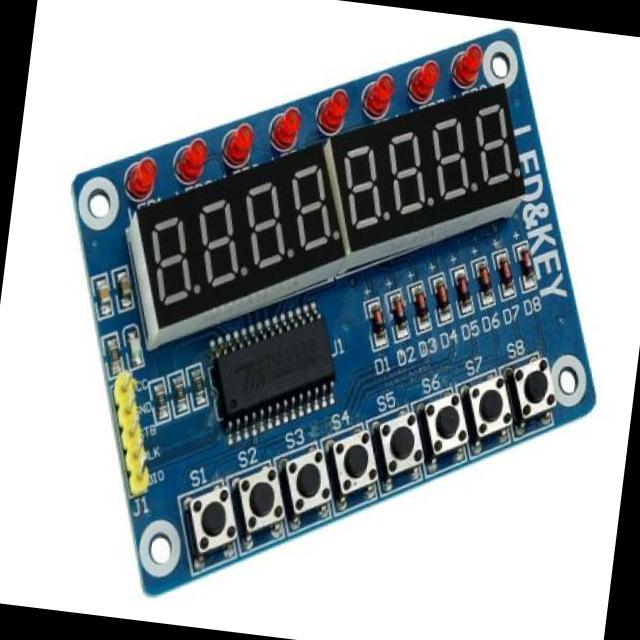IC: (207, 298, 344, 435)
LED: (171, 133, 211, 185), (450, 36, 486, 92), (362, 70, 398, 120), (222, 119, 258, 166), (120, 154, 160, 196), (268, 102, 303, 148), (406, 56, 441, 102), (317, 86, 351, 132), (124, 332, 146, 364)
capacitor: (113, 265, 136, 303), (92, 280, 115, 310)
connector: (102, 365, 160, 483)
diode: (494, 253, 521, 296), (411, 284, 434, 328), (516, 240, 536, 288), (432, 275, 453, 317), (472, 258, 494, 298), (452, 268, 472, 304), (388, 292, 409, 326), (366, 307, 388, 339)
resistor: (104, 340, 129, 376), (150, 378, 172, 416), (187, 368, 208, 400), (168, 376, 190, 406)
